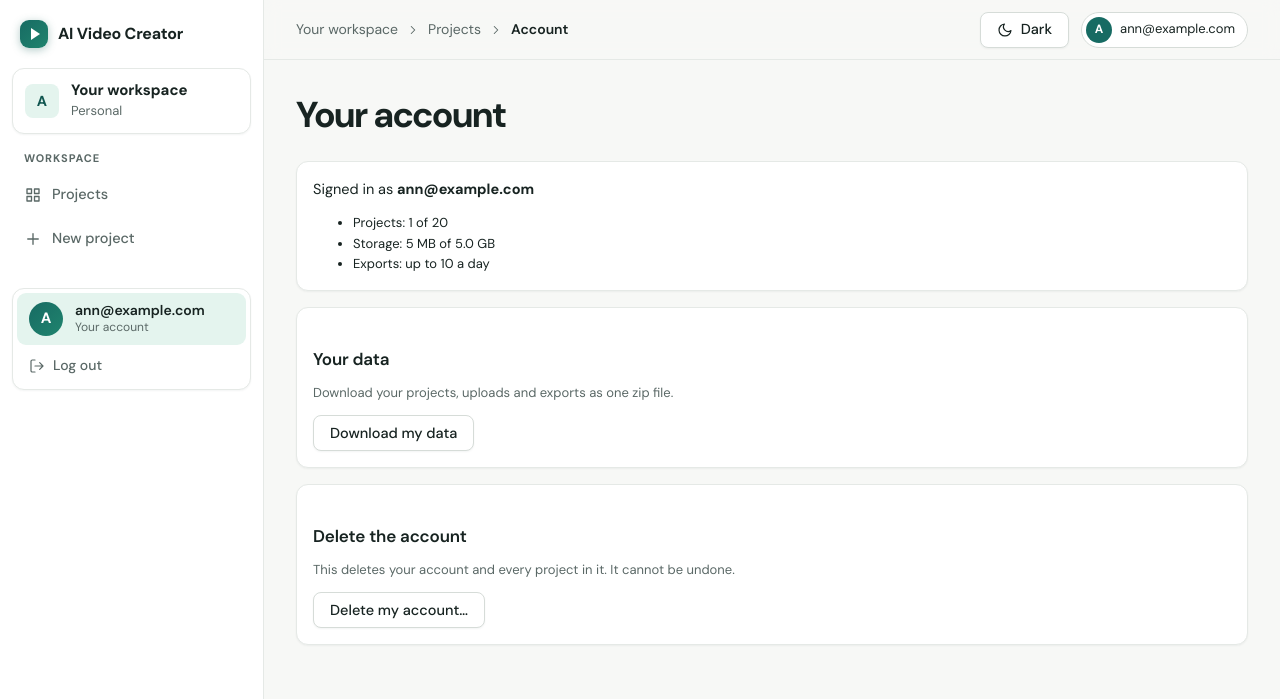
Test: App and accounts › the account page shows the limits, offers the data download, and deleting needs the password
The image size is (1280, 699).
Expected: the list item "Projects: 1 of 20" is shown, [353,214,448,232]
Expected: the list item "Storage: 5 MB of 5.0 GB" is shown, [353,235,495,252]
Step 1. Click the button "Delete my account…" → (399, 610), box [313,592,485,628]
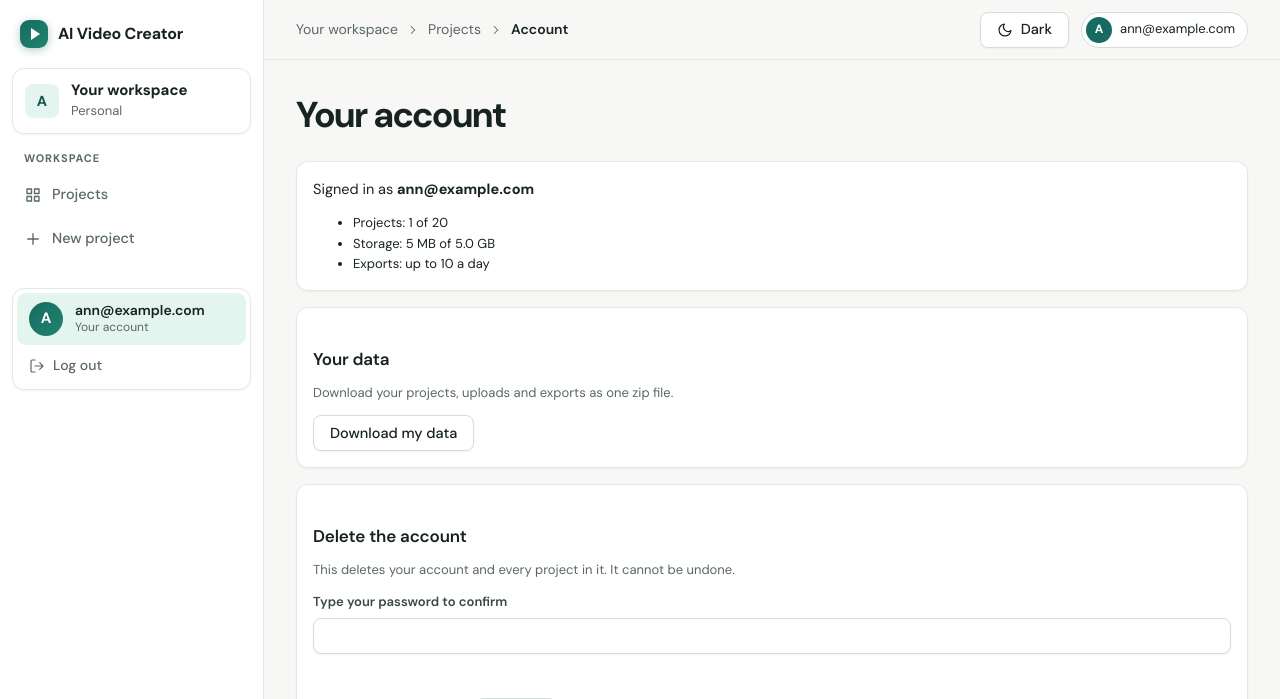
Step 2. Type "correct horse battery" into the password field labelled "Type your password to confirm" → (772, 636), box [313,618,1231,654]
(page scrolled)
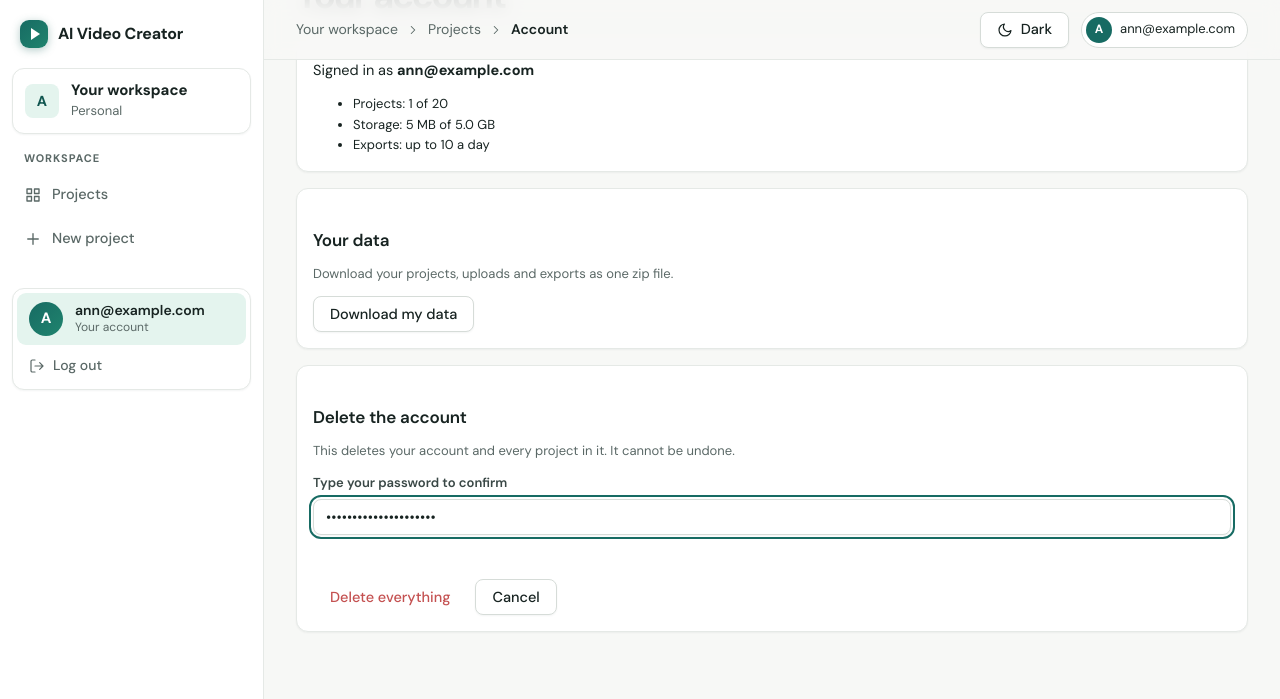
Step 3. Click the button "Delete everything" → (390, 597), box [313,579,467,615]
(page scrolled)
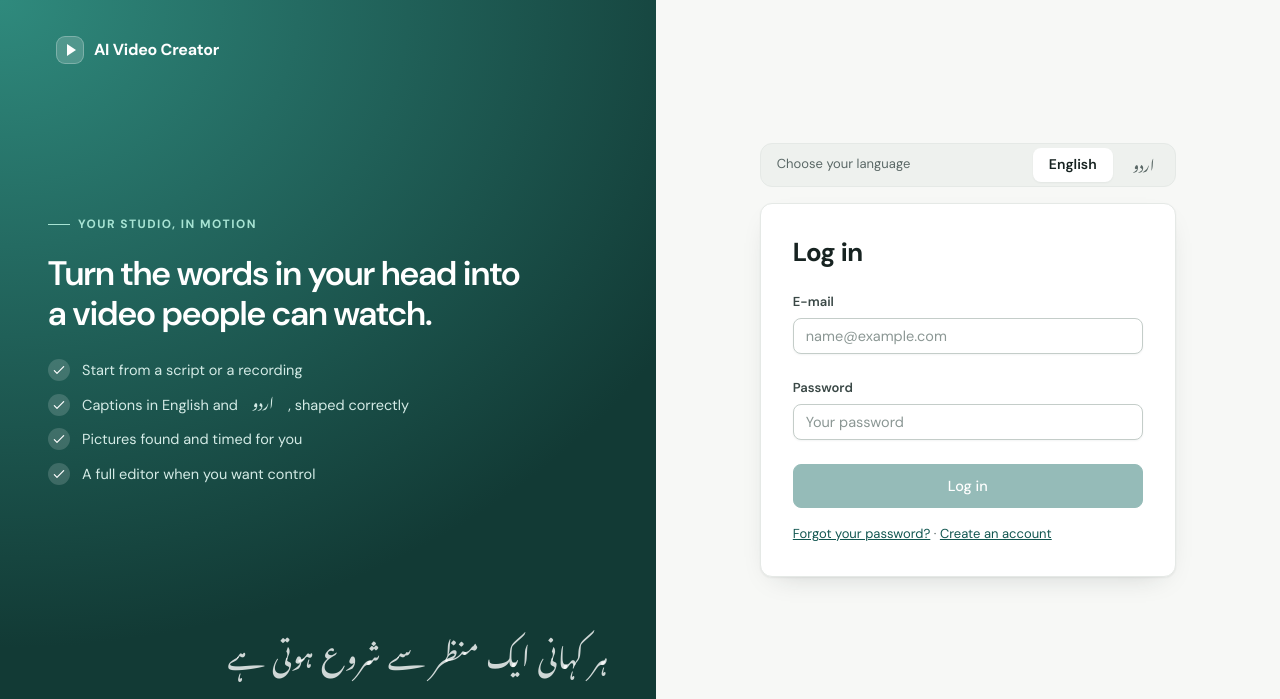
Expected: the heading "Log in" is shown, [793,234,862,268]
